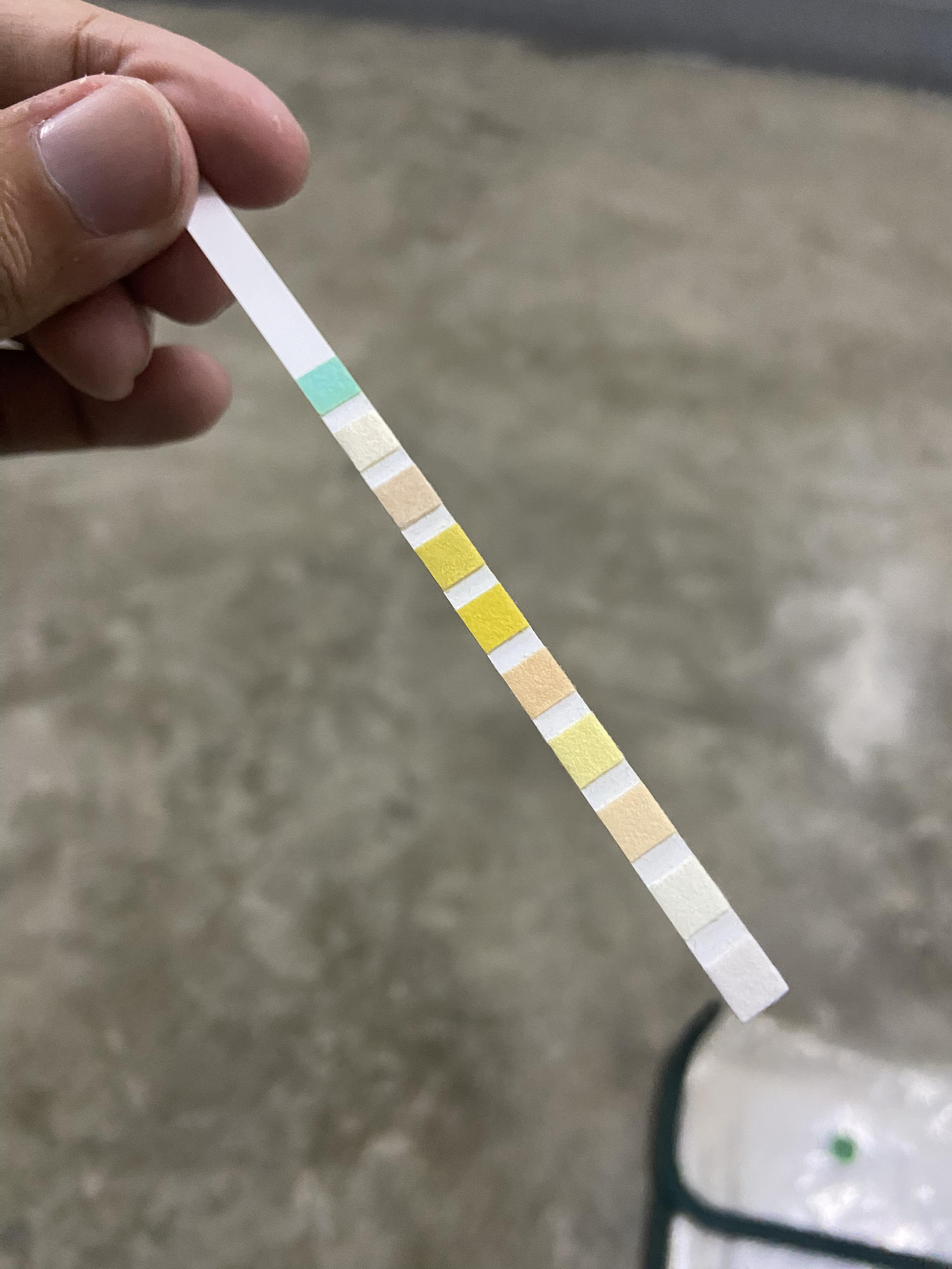Bilirubin: (348, 424, 386, 455)
Blood: (474, 599, 512, 637)
Glucose: (311, 372, 348, 399)
Ketone: (388, 481, 430, 511)
Leukocytes: (725, 956, 767, 1000)
Nitrite: (667, 877, 710, 915)
Protein: (567, 729, 604, 772)
SpGravity: (427, 541, 471, 569)
Urobilinogen: (613, 801, 657, 837)
pH: (518, 664, 558, 701)
strip: (187, 203, 787, 1020)
